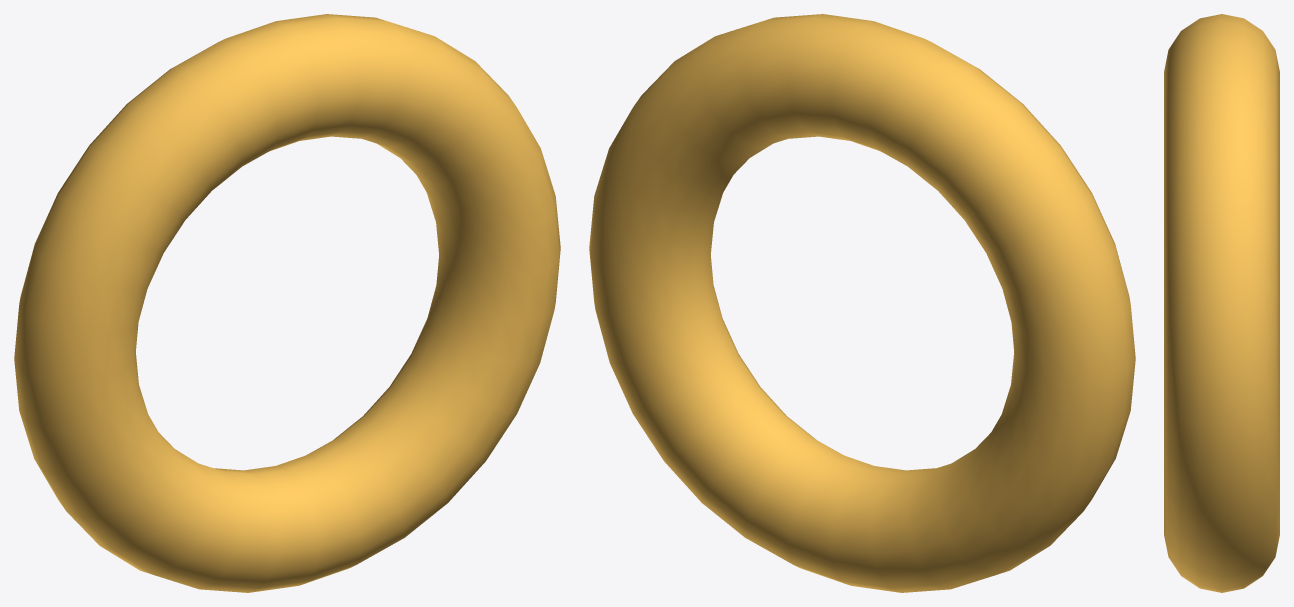
The picture shows the model from 3 angles, left to right: view 1: azimuth 30°, elevation 25°; view 2: azimuth 150°, elevation 25°; view 3: azimuth 270°, elevation 25°; orthographic projection. The views are drawn at different scales.
Visible parts, largest first — view 1: Object_2; view 2: Object_2; view 3: Object_2.
Part boxes in pixels (x1=…): Object_2: x1=14, y1=14, x2=560, y2=592; Object_2: x1=589, y1=14, x2=1135, y2=592; Object_2: x1=1164, y1=14, x2=1279, y2=592.
Size of the model in its own units: 2.5 by 2.5 by 0.5.
